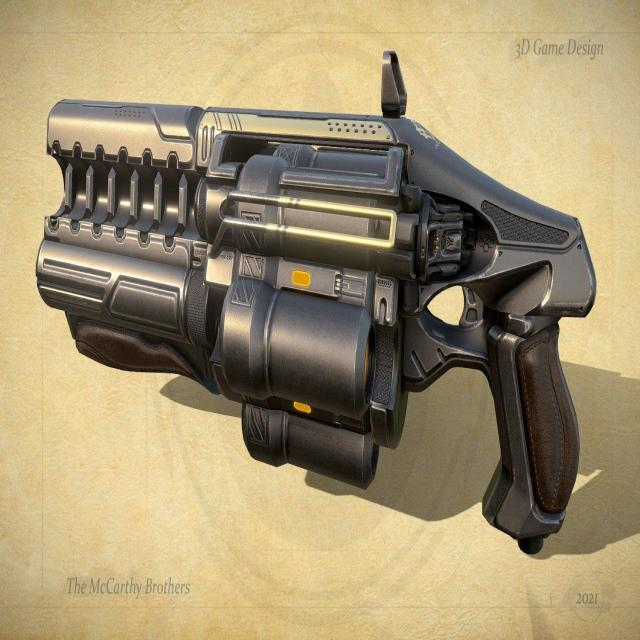weapon: (37, 58, 594, 561)
